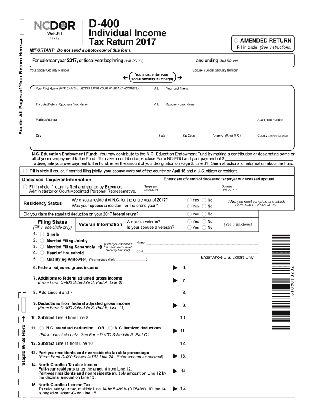checkbox: (201, 196, 207, 203), (201, 202, 207, 209), (186, 202, 192, 209), (186, 210, 192, 217), (201, 210, 207, 217), (186, 223, 192, 230), (39, 230, 45, 237), (39, 249, 45, 256), (39, 324, 45, 331), (107, 324, 113, 331), (22, 167, 28, 174), (22, 183, 28, 190), (186, 197, 192, 203), (201, 218, 207, 224), (201, 224, 207, 230), (186, 218, 192, 224), (39, 237, 45, 243), (39, 243, 45, 249), (39, 256, 45, 262), (233, 37, 239, 43)
textbox: (34, 117, 255, 132), (28, 66, 121, 87), (190, 66, 282, 87), (34, 101, 151, 116), (34, 132, 157, 146), (33, 86, 151, 100), (164, 86, 282, 100), (165, 102, 282, 116), (181, 261, 265, 272), (142, 182, 221, 193), (180, 287, 265, 297), (180, 300, 265, 310), (179, 312, 264, 322), (179, 326, 264, 336), (179, 338, 264, 348), (179, 351, 264, 361), (179, 383, 264, 393), (220, 182, 292, 193), (218, 54, 289, 65), (124, 54, 194, 65), (181, 275, 266, 284), (180, 366, 264, 375), (211, 132, 255, 147), (256, 117, 290, 131), (256, 133, 290, 147), (182, 132, 210, 147), (157, 132, 182, 147), (152, 86, 163, 100), (152, 101, 163, 115)
textline: (142, 247, 258, 254), (144, 239, 260, 245), (225, 156, 295, 162), (115, 256, 145, 262)
